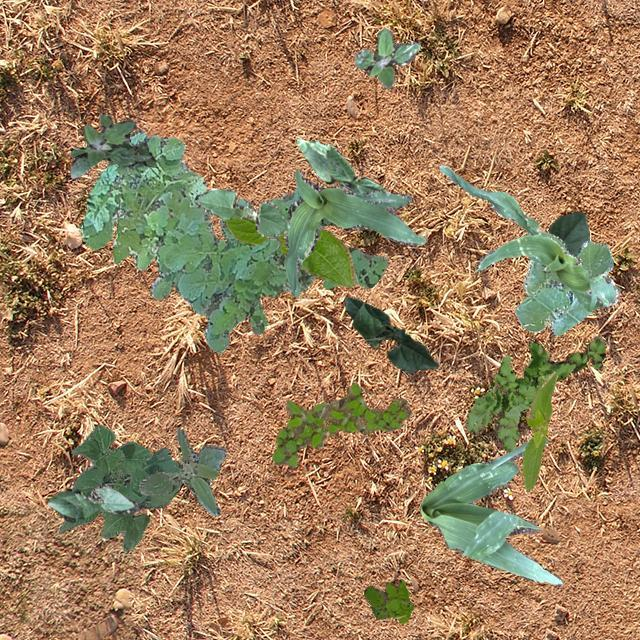crop: (438, 164, 618, 306), (419, 440, 562, 584), (282, 167, 424, 296), (58, 424, 180, 550), (514, 230, 612, 334), (223, 215, 354, 288), (343, 296, 438, 372), (296, 136, 384, 194), (193, 188, 290, 236), (522, 372, 556, 488), (46, 482, 136, 522), (548, 210, 588, 254)
weed: (80, 128, 388, 352), (464, 336, 604, 450), (272, 382, 411, 466), (138, 428, 225, 514), (70, 112, 156, 178), (354, 28, 419, 88), (362, 578, 412, 622)
